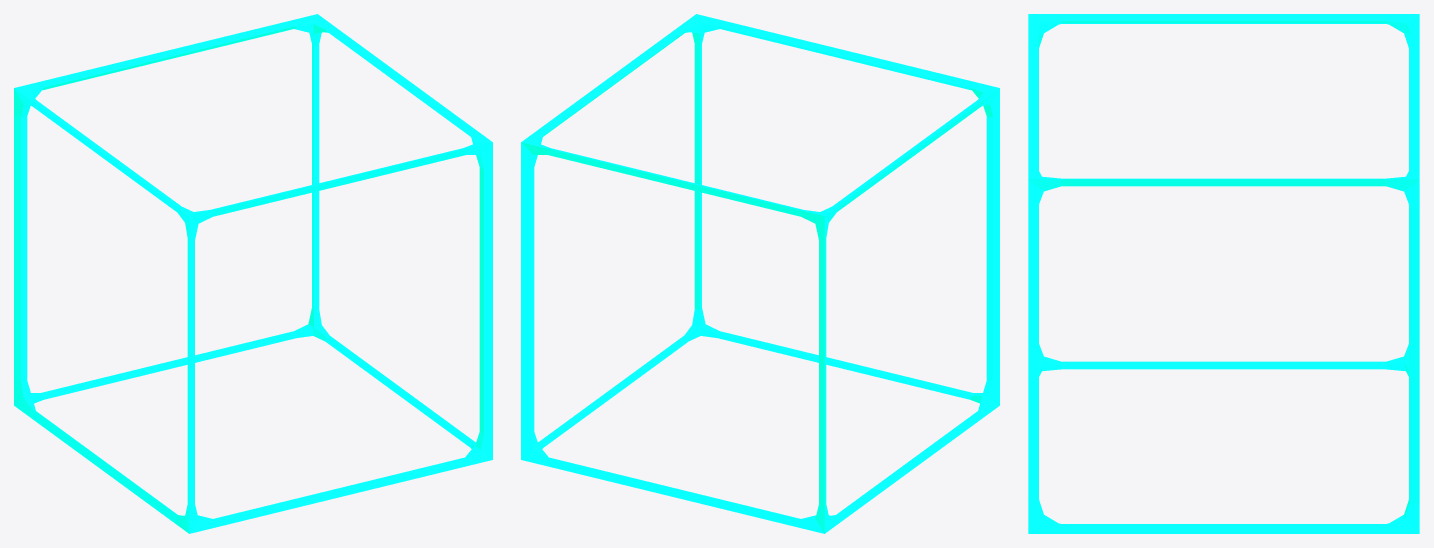
The model's file is TargetCube.fbx.
The picture shows the model from 3 angles, left to right: view 1: azimuth 30°, elevation 25°; view 2: azimuth 150°, elevation 25°; view 3: azimuth 270°, elevation 25°; orthographic projection. The views are drawn at different scales.
Parts seen in each view (by area): view 1: TargetCube; view 2: TargetCube; view 3: TargetCube.
Part boxes in pixels (x1,y1,x2,y2): TargetCube: (14, 14, 492, 533); TargetCube: (521, 14, 999, 533); TargetCube: (1028, 14, 1419, 533).
Bounding box in the file's own units: 102 × 102 × 102.
